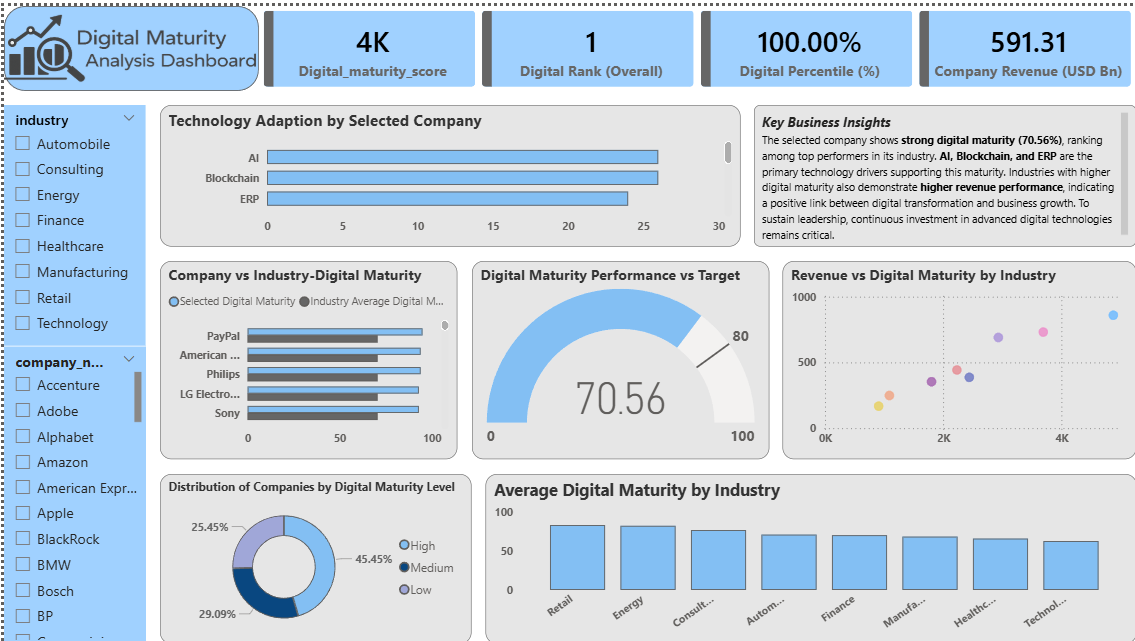

The dashboard page shown, as its layout file describes it:
{"tool":"powerbi","page":{"name":"Page 1","canvas":[1280,720],"ordinal":0},"visuals":[{"type":"slicer","fields":{"Values":["public mnc_digital_transformation.company_name"]},"box":[0,384,160,336],"z":0},{"type":"slicer","fields":{"Values":["public mnc_digital_transformation.industry"]},"box":[0,112,160,272],"z":1000},{"type":"cardVisual","fields":{"Data":["Sum(public mnc_digital_transformation.digital_maturity_score)","public mnc_digital_transformation.Digital Rank","public mnc_digital_transformation.Digital Percentile","public mnc_digital_transformation.Company Revenue"]},"box":[288,0,992,96],"z":2000},{"type":"gauge","title":"Digital Maturity Performance vs Target","fields":{"Y":["public mnc_digital_transformation.Digital Maturity %"],"MinValue":["public mnc_digital_transformation.min Gauge"],"MaxValue":["public mnc_digital_transformation.max Gaude"],"TargetValue":["public mnc_digital_transformation.target"]},"box":[528,288,336,224],"z":3000},{"type":"clusteredColumnChart","title":"Average Digital Maturity by Industry","fields":{"Category":["public mnc_digital_transformation.industry"],"Y":["Avg(public mnc_digital_transformation.digital_maturity_score)"]},"box":[544,528,736,192],"z":4000},{"type":"scatterChart","title":"Revenue vs Digital Maturity by Industry","fields":{"X":["Sum(public mnc_digital_transformation.revenue_usd_bn)"],"Y":["Sum(public mnc_digital_transformation.digital_maturity_score)"],"Series":["public mnc_digital_transformation.industry"]},"box":[880,288,400,224],"z":5000},{"type":"donutChart","title":"Distribution of Companies by Digital Maturity Level","fields":{"Category":["public mnc_digital_transformation.digital_category"],"Y":["CountNonNull(public mnc_digital_transformation.company_name)"]},"box":[176,528,352,192],"z":6000},{"type":"clusteredBarChart","title":"Company vs Industry-Digital Maturity","fields":{"Category":["public mnc_digital_transformation.company_name"],"Y":["public mnc_digital_transformation.Selected Digital Maturity","public mnc_digital_transformation.Industry Average Digital Maturity"]},"box":[176,288,336,224],"z":7000},{"type":"clusteredBarChart","title":"Technology Adaption by Selected Company","fields":{"Category":["public tech_usage_summary.technology"],"Y":["Sum(public tech_usage_summary.usage_count)"]},"box":[176,112,656,160],"z":8000},{"type":"shape","box":[0,0,288,96],"z":9000},{"type":"textbox","box":[848,112,432,160],"z":10000},{"type":"image","box":[0,0,288,96],"z":11000}]}

Visuals, with their boxes in screenshot pixels (x1, y1, x2, y2), scaled from the page's 1280x720 canvas onto the 1135x641 screenshot:
slicer - public mnc_digital_transformation.company_name: [x1=0, y1=342, x2=142, y2=640]
slicer - public mnc_digital_transformation.industry: [x1=0, y1=100, x2=142, y2=342]
cardVisual - Sum(public mnc_digital_transformation.digital_maturity_score) x public mnc_digital_transformation.Digital Rank: [x1=255, y1=0, x2=1134, y2=85]
"Digital Maturity Performance vs Target" gauge: [x1=468, y1=256, x2=766, y2=456]
"Average Digital Maturity by Industry" clusteredColumnChart: [x1=482, y1=470, x2=1134, y2=640]
"Revenue vs Digital Maturity by Industry" scatterChart: [x1=780, y1=256, x2=1134, y2=456]
"Distribution of Companies by Digital Maturity Level" donutChart: [x1=156, y1=470, x2=468, y2=640]
"Company vs Industry-Digital Maturity" clusteredBarChart: [x1=156, y1=256, x2=454, y2=456]
"Technology Adaption by Selected Company" clusteredBarChart: [x1=156, y1=100, x2=738, y2=242]
shape: [x1=0, y1=0, x2=255, y2=85]
textbox: [x1=752, y1=100, x2=1134, y2=242]
image: [x1=0, y1=0, x2=255, y2=85]
